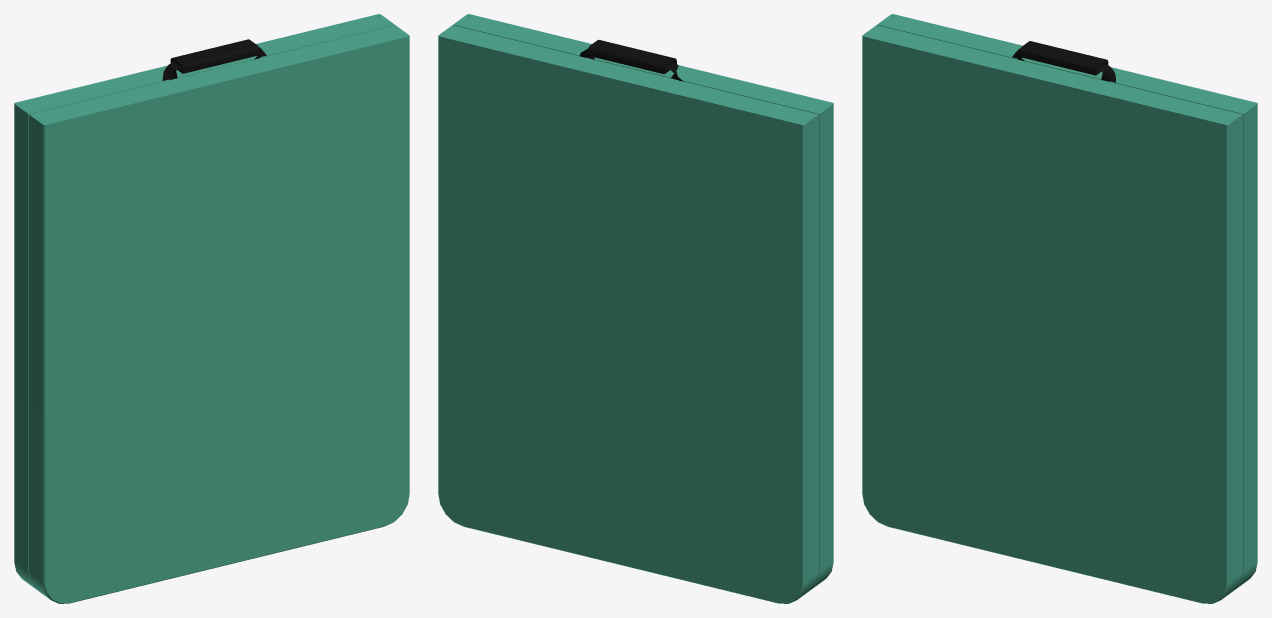
Rendered from 6_ft_folded_table.fbx.
3 renders of one model, left to right at view 1: azimuth 30°, elevation 25°; view 2: azimuth 150°, elevation 25°; view 3: azimuth 330°, elevation 25°, orthographic.
Visible parts, largest first — view 1: polySurface6, polySurface7, pCube260; view 2: polySurface7, polySurface6, pCube260; view 3: polySurface6, polySurface7, pCube260.
Part boxes in pixels (box(x1,y1,x2,y2)): polySurface6: box(29, 25, 409, 603); polySurface7: box(14, 14, 394, 588); pCube260: box(170, 39, 259, 73); polySurface7: box(438, 25, 818, 603); polySurface6: box(453, 14, 833, 588); pCube260: box(587, 40, 676, 74); polySurface6: box(862, 25, 1242, 603); polySurface7: box(877, 14, 1257, 588); pCube260: box(1019, 41, 1108, 75).
Size of the model in its own units: 0.71 by 0.9289 by 0.1023.
